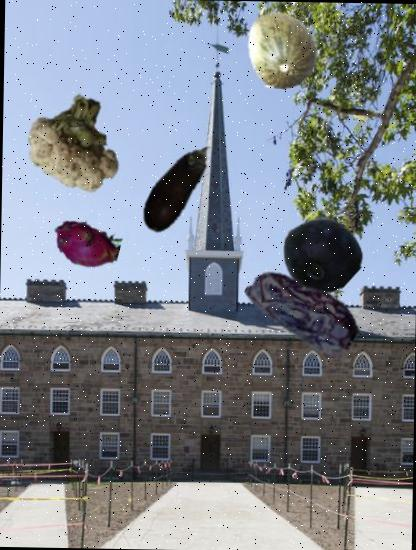Blueberry: (281, 214, 360, 293)
Cauliflower: (26, 90, 128, 192)
Dates: (242, 248, 362, 369)
Eggplant: (122, 134, 228, 240)
Melon: (244, 11, 322, 90)
Pitahaya: (51, 209, 121, 280)
